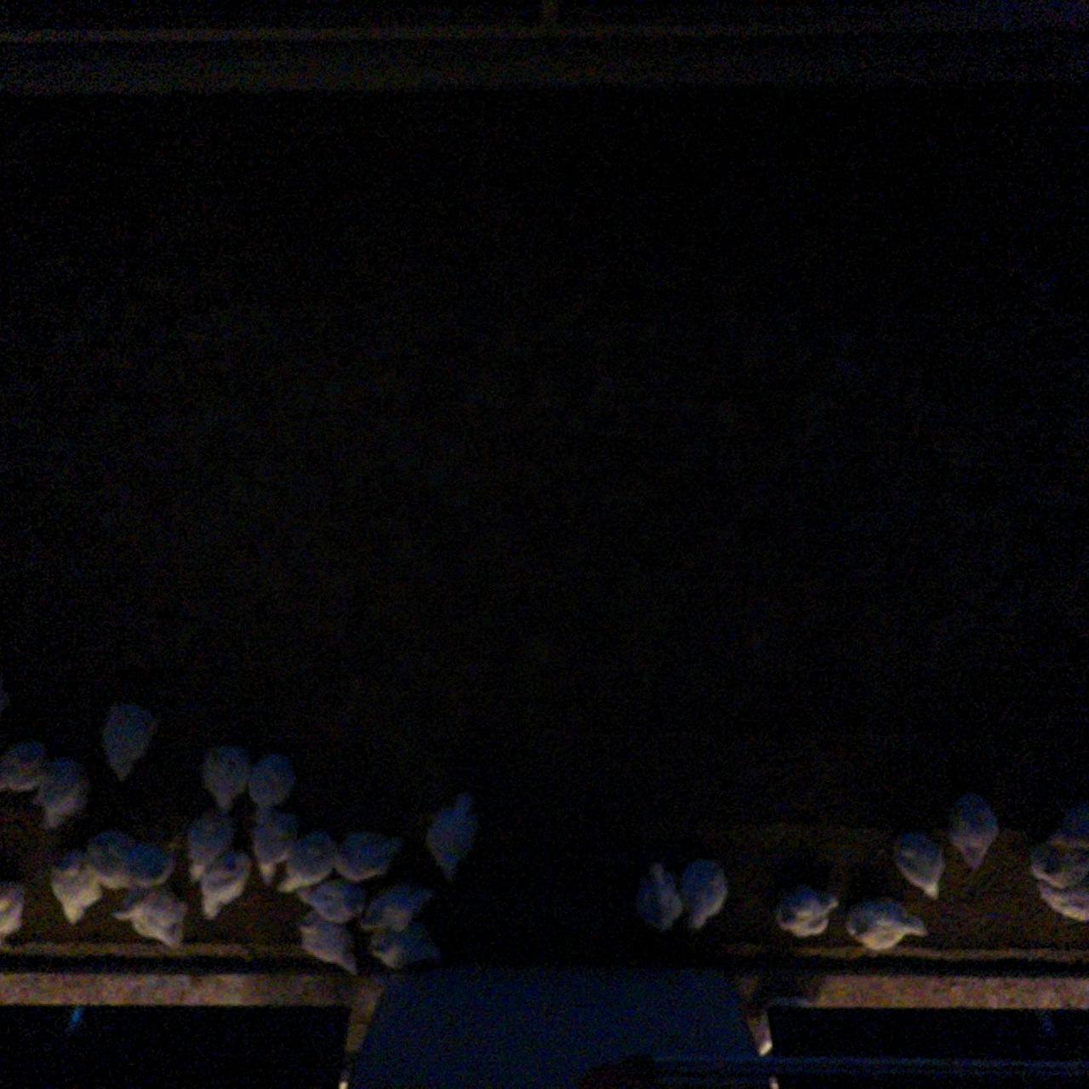chicken: (93, 690, 172, 781), (110, 874, 196, 950), (1023, 798, 1089, 888), (422, 786, 485, 875), (30, 750, 99, 827), (887, 817, 949, 902), (771, 876, 845, 945), (46, 843, 106, 928), (844, 893, 934, 949), (947, 789, 1007, 873), (628, 857, 690, 938), (296, 908, 365, 978), (99, 829, 178, 888), (197, 849, 257, 922), (247, 809, 301, 890), (332, 826, 406, 884), (683, 853, 735, 932), (359, 880, 433, 935), (278, 828, 338, 895), (199, 732, 251, 809), (183, 813, 240, 883), (368, 928, 448, 972), (0, 732, 48, 801), (298, 871, 361, 923), (248, 750, 297, 814), (0, 874, 36, 951), (1036, 879, 1089, 930)
